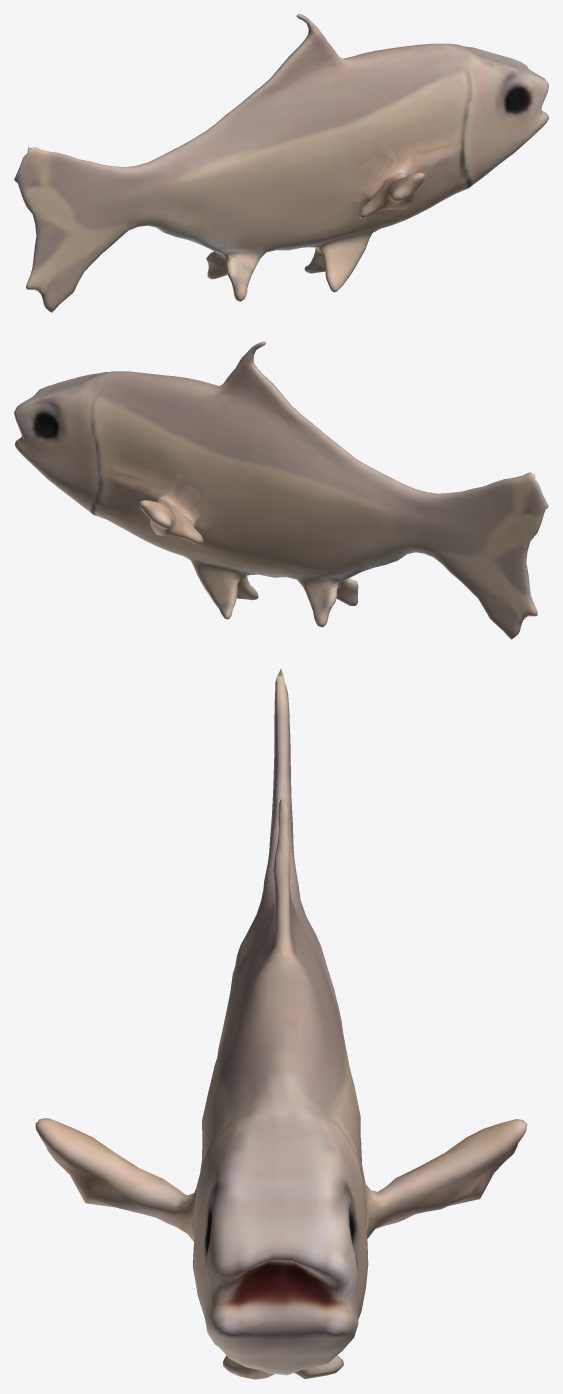
The model's file is Fish1.glb.
3 views of the same model, one above another, from view 1: azimuth 30°, elevation 25°; view 2: azimuth 150°, elevation 25°; view 3: azimuth 270°, elevation 25° (orthographic). The views are drawn at different scales.
Parts seen in each view (by area): view 1: mesh; view 2: mesh; view 3: mesh.
Boxes of the visible parts, x1,y1,x2,y2 form: mesh: (14,14,548,312); mesh: (14,341,548,639); mesh: (35,668,527,1379).
Size of the model in its own units: 0.9971 by 0.5009 by 0.4068.
Materials: 1 (1 with a texture image).
